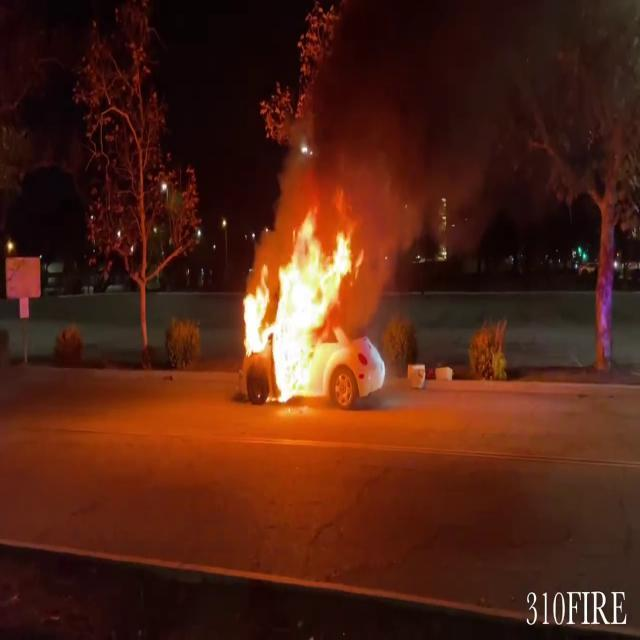Fire: (236, 202, 362, 406)
Smoke: (273, 0, 499, 232)
